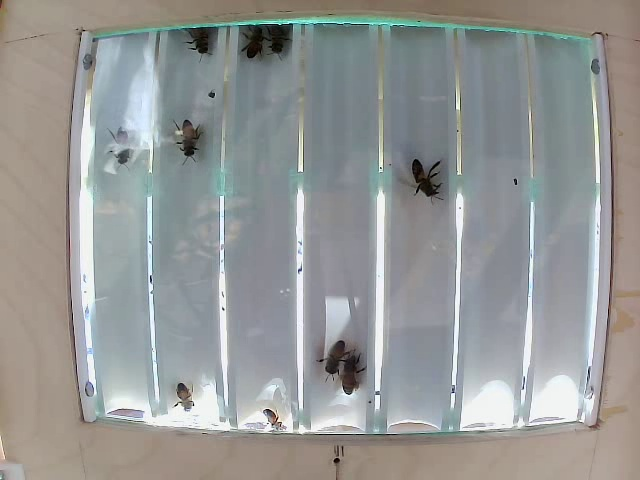bee: (403, 154, 449, 216), (99, 132, 141, 176), (237, 19, 271, 63), (184, 109, 208, 168), (189, 25, 227, 60), (269, 21, 300, 59), (316, 332, 338, 381), (343, 347, 362, 397)
